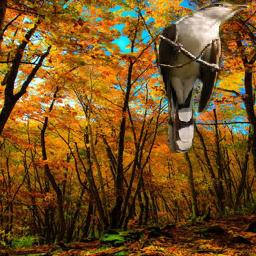Cuckoo: (157, 1, 250, 153)
